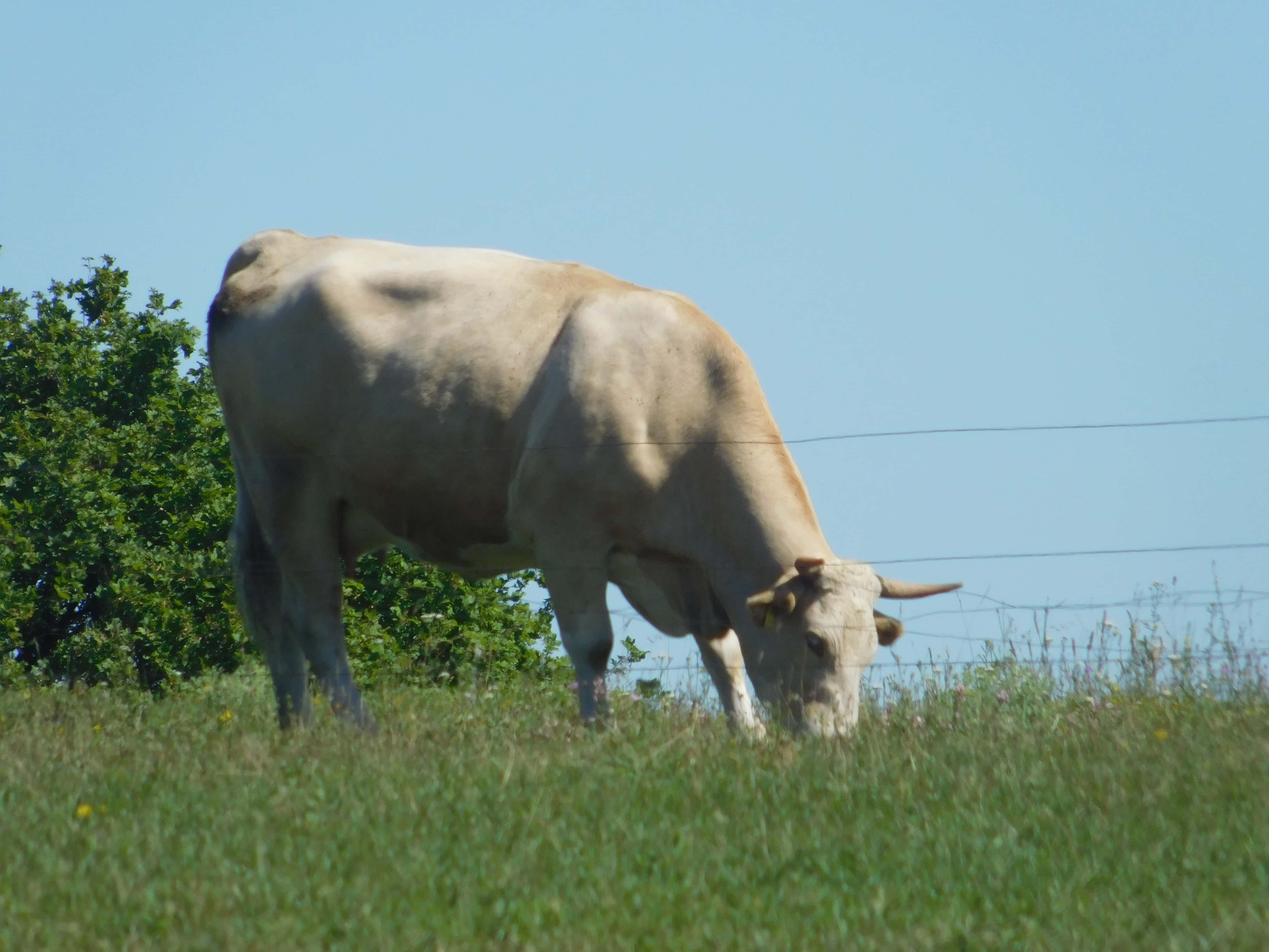bovino: (208, 232, 915, 739)
